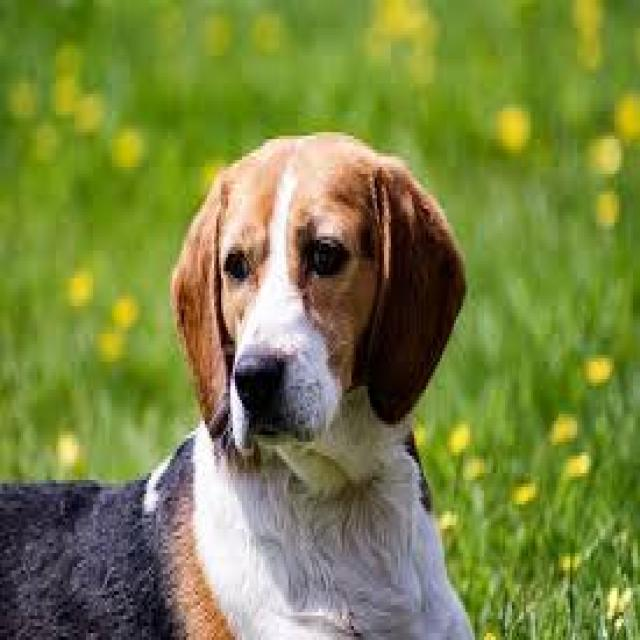Dog: (0, 125, 482, 640)
